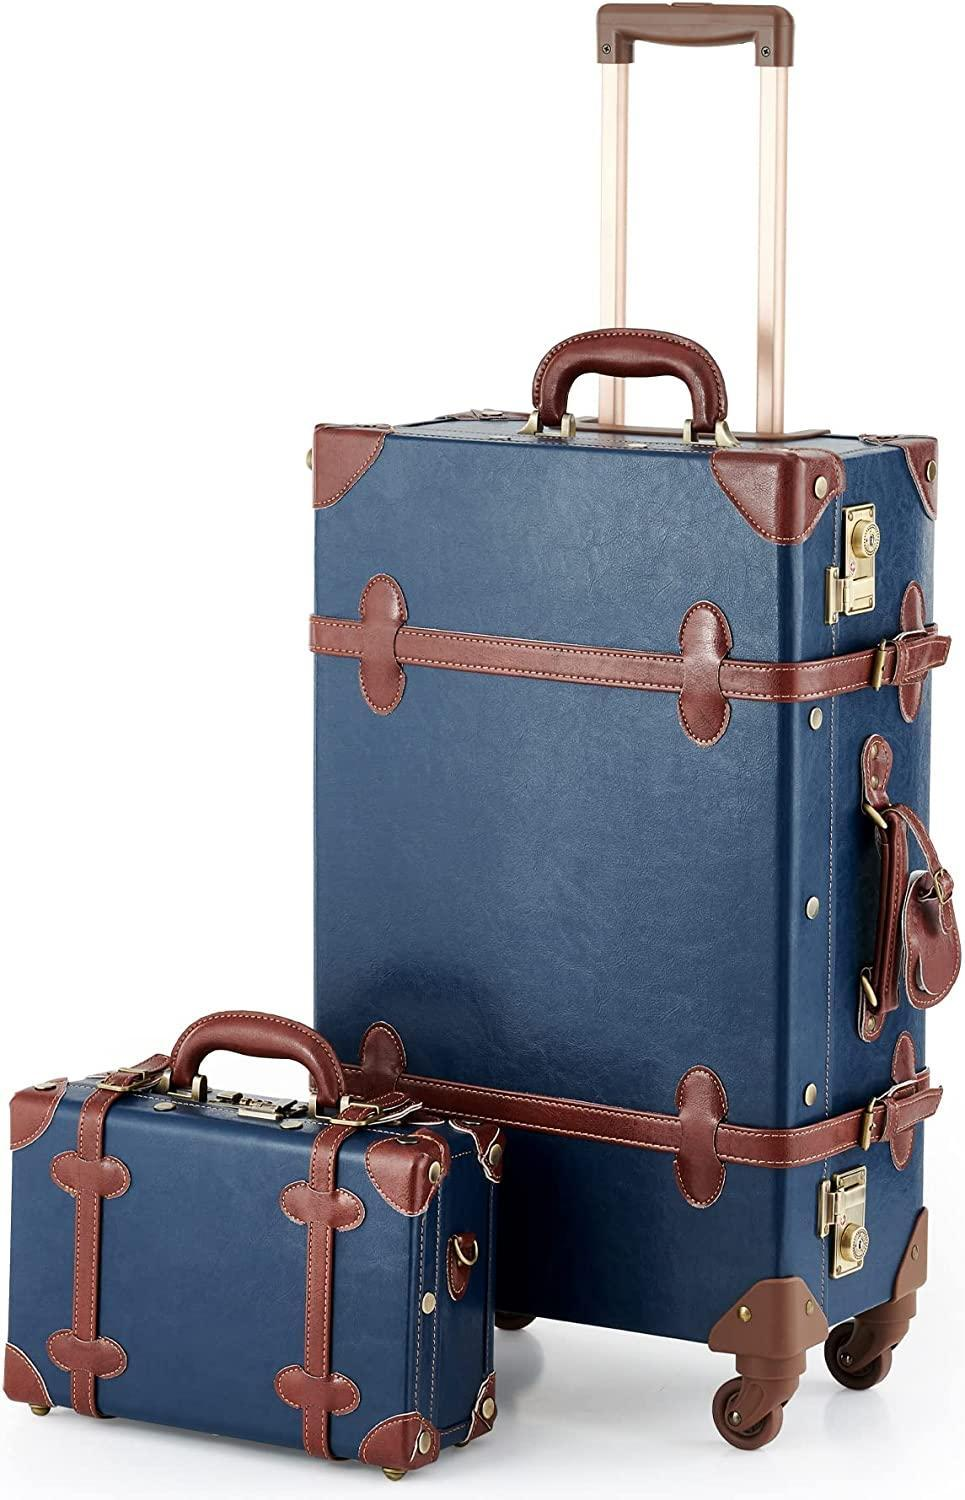handbag: (0, 997, 515, 1486)
suitcase: (275, 324, 965, 1450)
